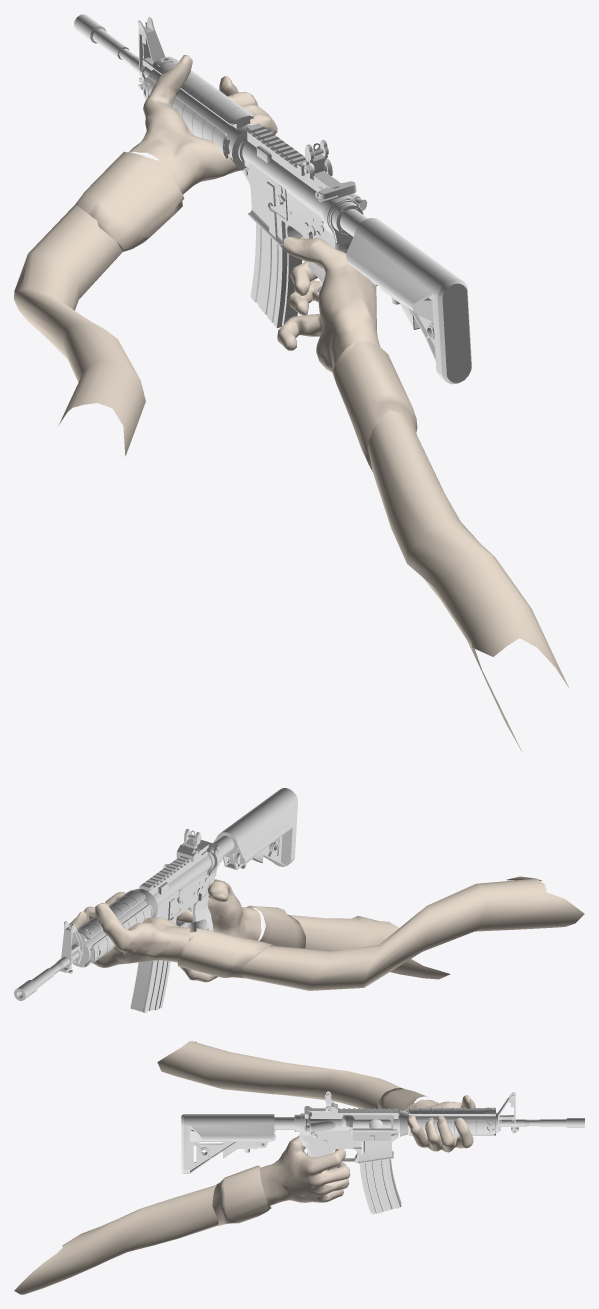
Rendered from m4a4_posed.glb.
The picture shows the model from 3 angles, top to bottom: view 1: azimuth 30°, elevation 25°; view 2: azimuth 150°, elevation 25°; view 3: azimuth 270°, elevation 25°; orthographic projection. The views are drawn at different scales.
Visible parts, largest first — view 1: char, body, mag; view 2: char, body, mag; view 3: char, body, mag.
Part boxes in pixels (bbox=[...]): char: bbox=[14, 55, 569, 752]; body: bbox=[74, 14, 471, 384]; mag: bbox=[250, 223, 302, 327]; char: bbox=[69, 876, 584, 990]; body: bbox=[14, 788, 297, 1000]; mag: bbox=[130, 960, 170, 1012]; char: bbox=[14, 1041, 475, 1294]; body: bbox=[181, 1091, 584, 1195]; mag: bbox=[359, 1159, 401, 1214].
Bounding box in the file's own units: 0.7155 × 0.5872 × 1.41.
